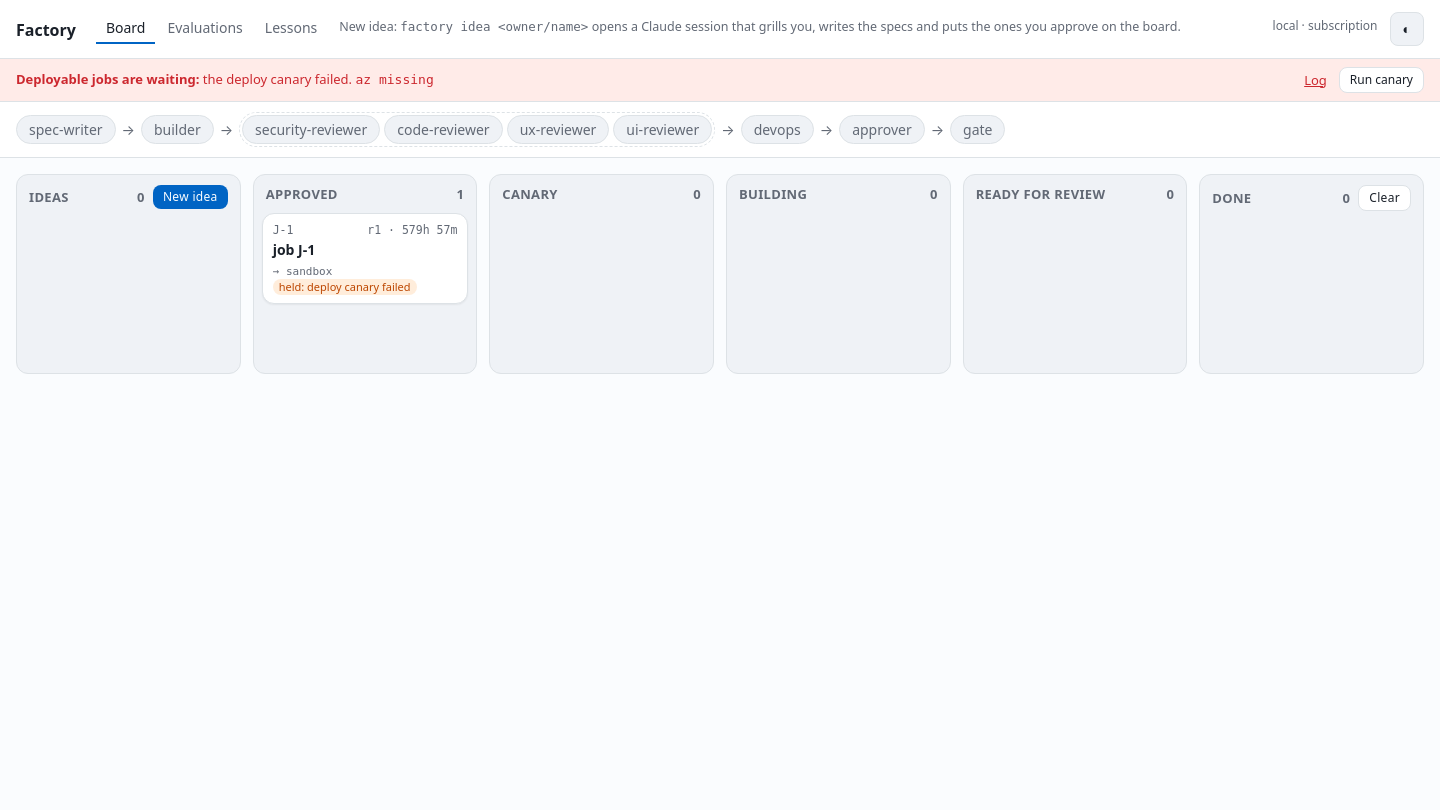
the canary banner › a failed canary shows its error and log, and Run canary starts one
This screenshot has width=1440, height=810.
Expected: the message with id "canary" shows "Deployable jobs are waiting", left=16, top=70, right=200, bottom=88
Expected: the text "held: deploy canary failed" is shown, left=273, top=280, right=417, bottom=295
What coordinates should you click on to do the following:
click the button "Run canary"
I would click on:
 (1381, 80)
Its box is left=1339, top=67, right=1424, bottom=93.
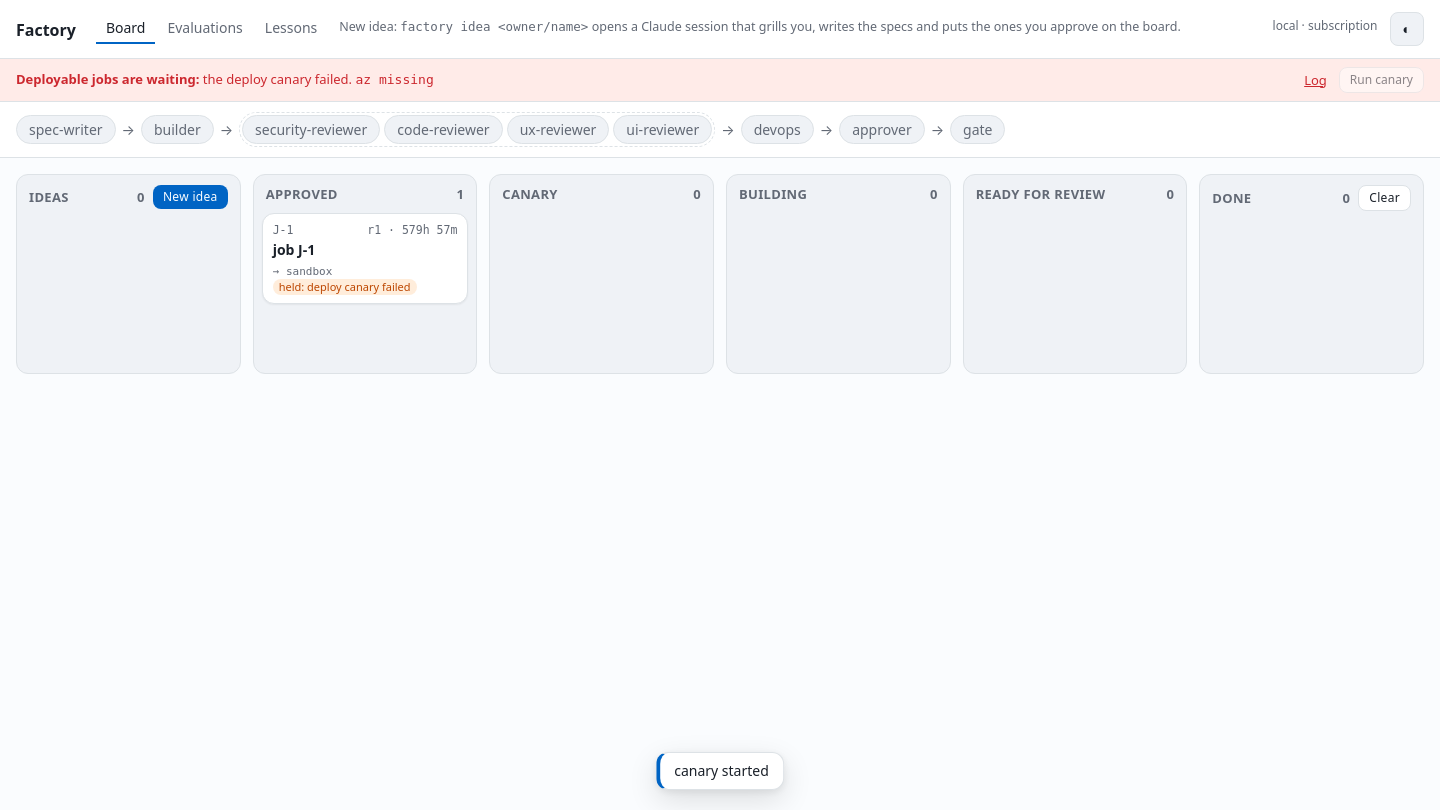
Expected: the message with id "toast" reads "canary started", left=674, top=761, right=769, bottom=780
